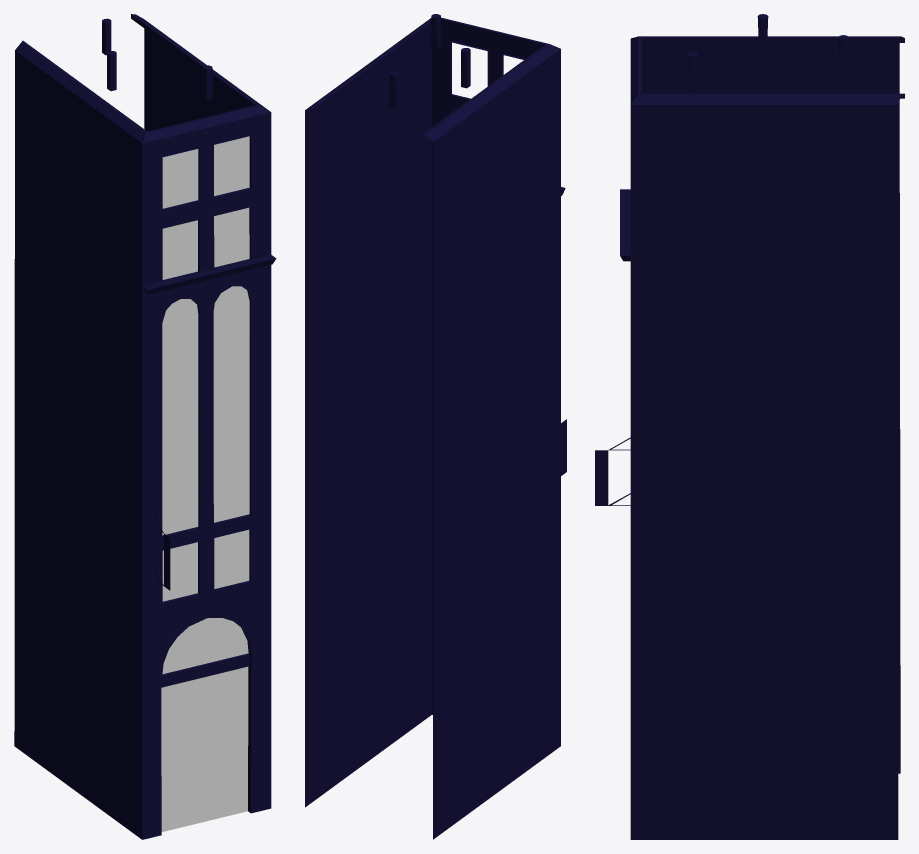
Rendered from building_03.gltf.
3 renders of one model, left to right at view 1: azimuth 30°, elevation 25°; view 2: azimuth 150°, elevation 25°; view 3: azimuth 270°, elevation 25°, orthographic. The views are drawn at different scales.
Parts seen in each view (by area): view 1: building_03; view 2: building_03; view 3: building_03.
Boxes of the visible parts, bbox=[...] form: building_03: bbox=[14, 14, 276, 839]; building_03: bbox=[305, 14, 566, 839]; building_03: bbox=[595, 14, 904, 839].
Bounding box in the file's own units: 0.6347 × 3.45 × 1.25.
